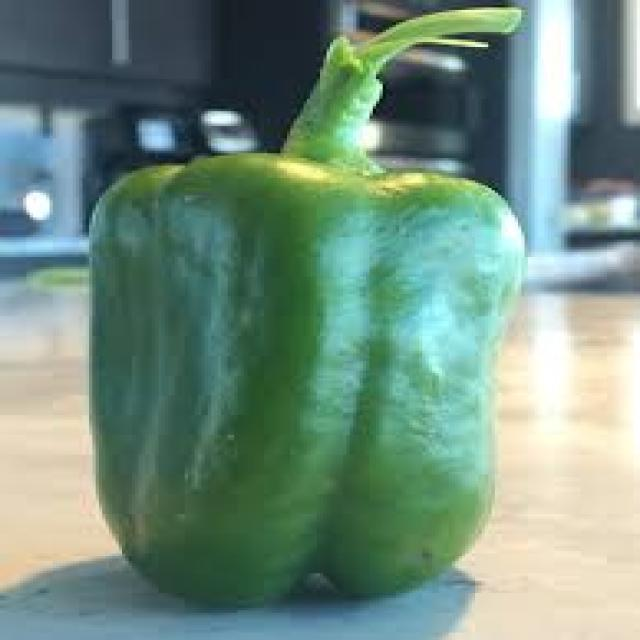bell_pepper: (52, 131, 544, 606)
